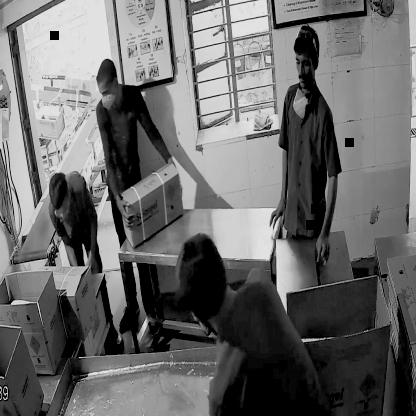no_goggles: (290, 50, 318, 76)
